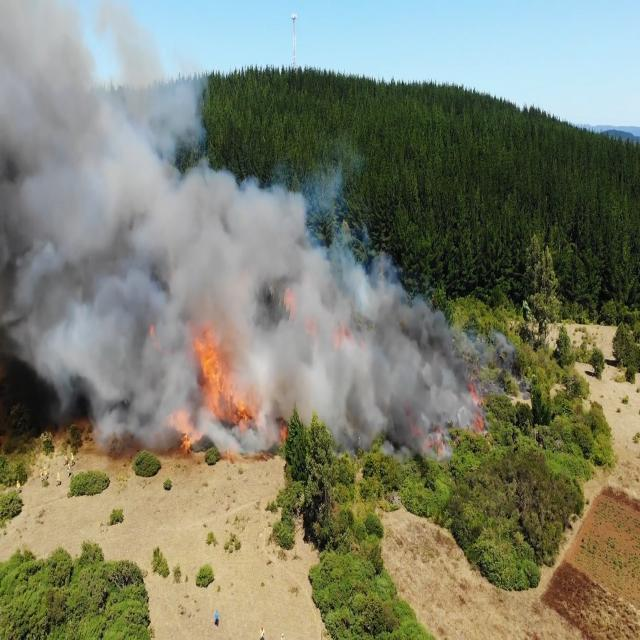Fire: (190, 324, 262, 438), (400, 406, 458, 469), (162, 402, 202, 460), (465, 380, 496, 450), (221, 446, 267, 472), (278, 280, 303, 323), (331, 322, 356, 358), (270, 412, 293, 450), (306, 314, 325, 351), (145, 316, 164, 350)
Smoke: (0, 0, 274, 319), (0, 321, 144, 451), (308, 361, 398, 454), (326, 219, 410, 317), (358, 317, 520, 362), (275, 182, 324, 280), (263, 320, 307, 411), (400, 363, 466, 408), (316, 158, 358, 218), (147, 352, 189, 398), (410, 284, 448, 317), (146, 398, 162, 458), (168, 319, 188, 348)
